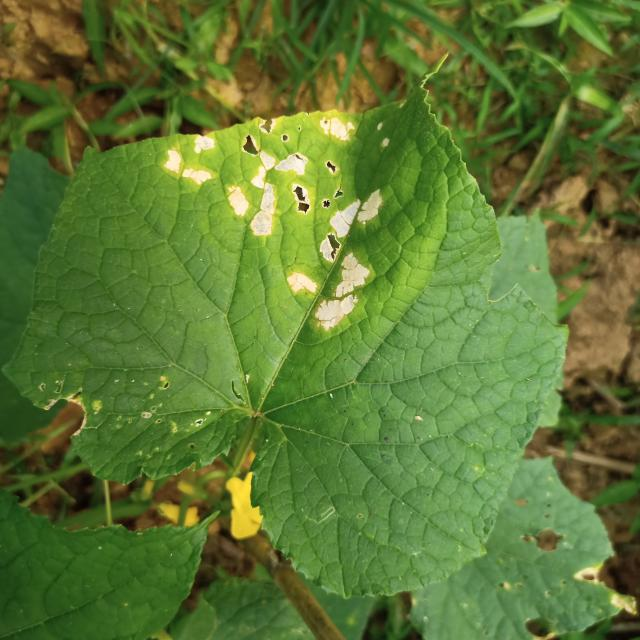disease_cucumber: (156, 109, 386, 337)
